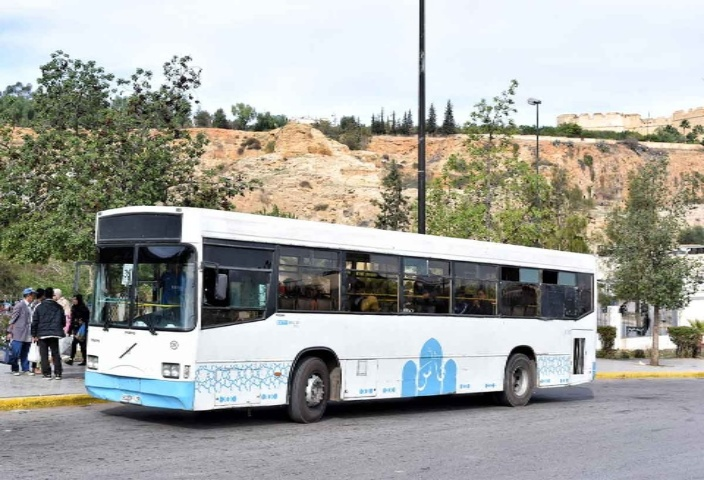bus: (74, 181, 612, 428)
